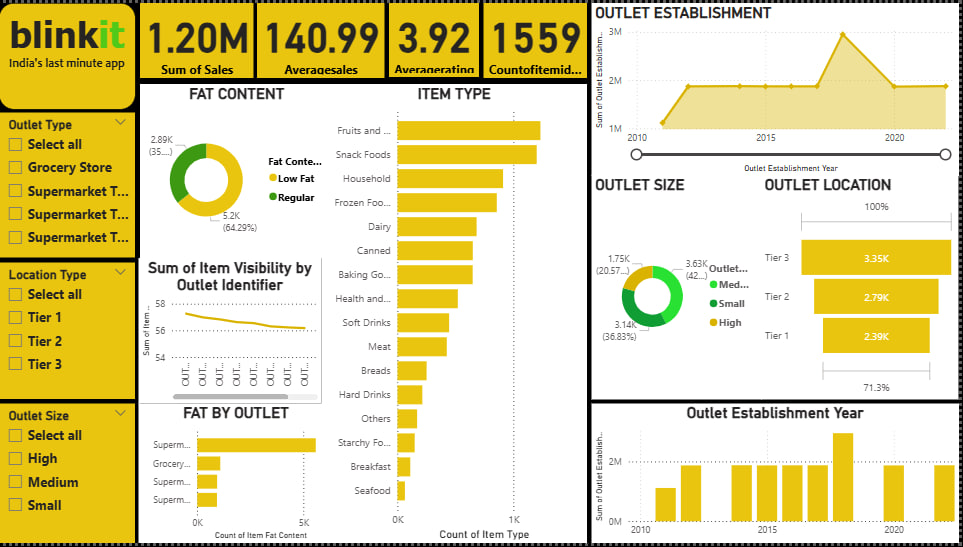

What the dashboard file says about the page in this screenshot:
{"tool":"powerbi","page":{"name":"Page 2","canvas":[1280,720],"ordinal":1},"visuals":[{"type":"card","fields":{"Values":["BlinkIT Grocery Data.Averagesales"]},"box":[344.6,0,170,100],"z":0},{"type":"card","fields":{"Values":["BlinkIT Grocery Data.Averagerating"]},"box":[520,0,120,98.3],"z":1000},{"type":"card","fields":{"Values":["Sum(BlinkIT Grocery Data.Sales)"]},"box":[187.7,0,151.5,100],"z":2000},{"type":"textbox","box":[0,0,181.7,141.7],"z":3000},{"type":"funnel","title":"OUTLET LOCATION","fields":{"Category":["BlinkIT Grocery Data.Outlet Location Type"],"Y":["CountNonNull(BlinkIT Grocery Data.Outlet Location Type)"]},"box":[1016.7,230,263.3,298.3],"z":4000},{"type":"donutChart","title":"OUTLET SIZE","fields":{"Category":["BlinkIT Grocery Data.Outlet Size"],"Y":["CountNonNull(BlinkIT Grocery Data.Outlet Size)"]},"box":[790,230,226.7,298.3],"z":5000},{"type":"lineChart","title":"OUTLET ESTABLISHMENT","fields":{"Category":["BlinkIT Grocery Data.Outlet Establishment Year"],"Y":["Sum(BlinkIT Grocery Data.Outlet Establishment Year)"]},"box":[790,0,490,230],"z":5001},{"type":"slicer","fields":{"Values":["BlinkIT Grocery Data.Outlet Type"]},"box":[0,146.9,181.5,193.1],"z":5002},{"type":"slicer","fields":{"Values":["BlinkIT Grocery Data.Outlet Location Type"]},"box":[0,346.2,181.5,182.3],"z":5003},{"type":"slicer","fields":{"Values":["BlinkIT Grocery Data.Outlet Size"]},"box":[0,533.8,181.5,186.2],"z":5004},{"type":"card","fields":{"Values":["BlinkIT Grocery Data.Countofitemidentifier"]},"box":[646,0,138,100],"z":5005},{"type":"donutChart","title":"FAT CONTENT","fields":{"Category":["BlinkIT Grocery Data.Item Fat Content"],"Y":["CountNonNull(BlinkIT Grocery Data.Item Fat Content)"]},"box":[188,108,258,232],"z":5007},{"type":"columnChart","title":"Outlet Establishment Year","fields":{"Y":["Sum(BlinkIT Grocery Data.Outlet Establishment Year)"],"Category":["BlinkIT Grocery Data.Outlet Establishment Year"]},"box":[790,533.3,490,186.7],"z":5008},{"type":"barChart","title":"FAT BY OUTLET","fields":{"Y":["CountNonNull(BlinkIT Grocery Data.Item Fat Content)"],"Category":["BlinkIT Grocery Data.Outlet Type"]},"box":[186,534,260,186],"z":5009},{"type":"clusteredBarChart","title":"ITEM TYPE","fields":{"Y":["CountNonNull(BlinkIT Grocery Data.Item Type)"],"Category":["BlinkIT Grocery Data.Item Type"]},"box":[430,108,354,612],"z":5010},{"type":"lineChart","fields":{"Y":["Sum(BlinkIT Grocery Data.Item Visibility)"],"Category":["BlinkIT Grocery Data.Outlet Identifier"]},"box":[186,340,244,194],"z":5011}]}

Visuals, with their boxes in screenshot pixels (x1, y1, x2, y2), scaled from the page's 1280x720 canvas onto the 963x547 screenshot:
card - BlinkIT Grocery Data.Averagesales: 259,0,387,76
card - BlinkIT Grocery Data.Averagerating: 391,0,482,75
card - Sum(BlinkIT Grocery Data.Sales): 141,0,255,76
textbox: 0,0,137,108
"OUTLET LOCATION" funnel: 765,175,962,401
"OUTLET SIZE" donutChart: 594,175,765,401
"OUTLET ESTABLISHMENT" lineChart: 594,0,962,175
slicer - BlinkIT Grocery Data.Outlet Type: 0,112,137,258
slicer - BlinkIT Grocery Data.Outlet Location Type: 0,263,137,402
slicer - BlinkIT Grocery Data.Outlet Size: 0,406,137,546
card - BlinkIT Grocery Data.Countofitemidentifier: 486,0,590,76
"FAT CONTENT" donutChart: 141,82,336,258
"Outlet Establishment Year" columnChart: 594,405,962,546
"FAT BY OUTLET" barChart: 140,406,336,546
"ITEM TYPE" clusteredBarChart: 324,82,590,546
lineChart - Sum(BlinkIT Grocery Data.Item Visibility) x BlinkIT Grocery Data.Outlet Identifier: 140,258,324,406
